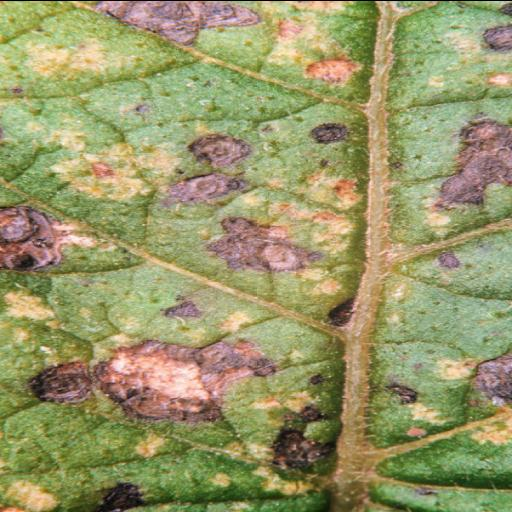disease_tomato: (2, 0, 511, 512)
